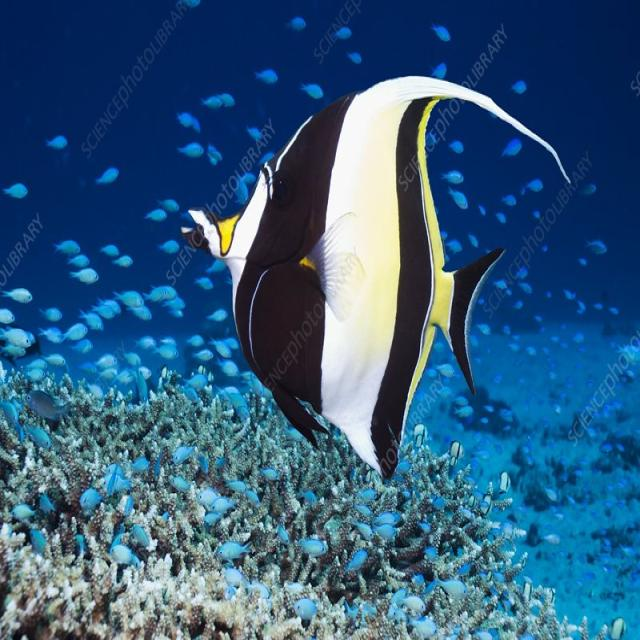MorishIdol: (178, 72, 572, 482)
